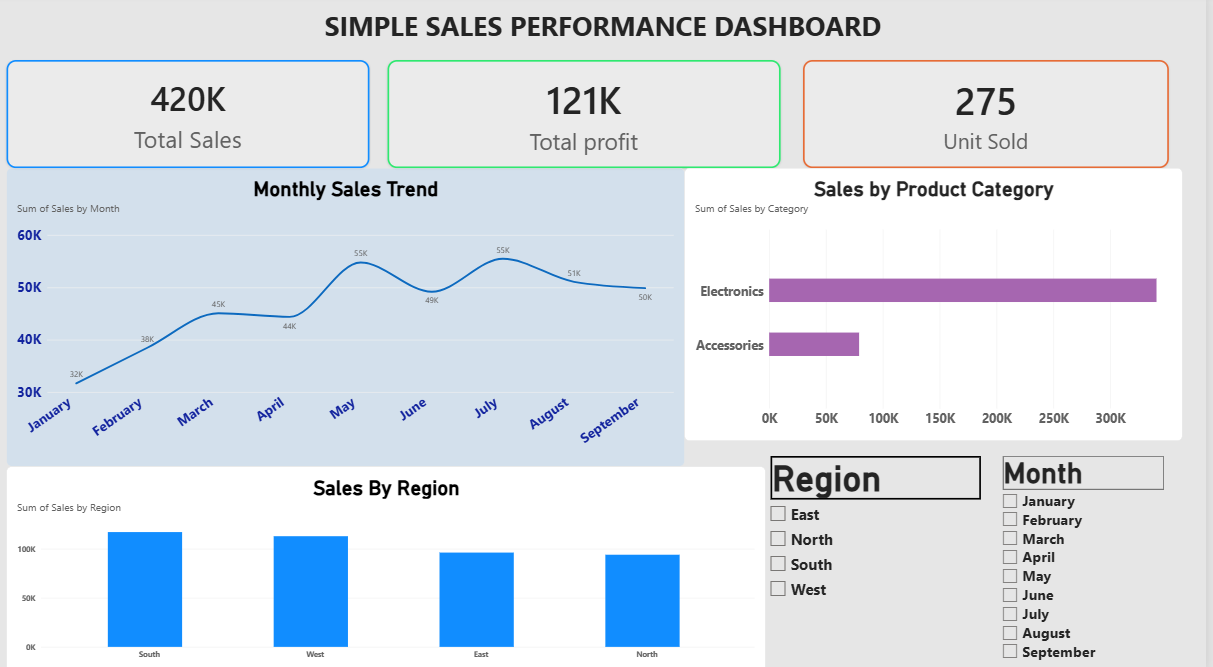

Layout of this report page (visuals, bound fields, positions):
{"tool":"powerbi","page":{"name":"Page 1","canvas":[1920,1080],"ordinal":0},"visuals":[{"type":"card","fields":{"Values":["Sum(Sales_Data.Sales)"]},"box":[11.9,105,577.4,171.8],"z":0},{"type":"card","fields":{"Values":["Sum(Sales_Data.Profit)"]},"box":[618,105,625.1,171.8],"z":1000},{"type":"card","fields":{"Values":["Sum(Sales_Data.Quantity)"]},"box":[1278.9,105,582.2,171.8],"z":2000},{"type":"lineChart","title":"Monthly Sales Trend","fields":{"Category":["Sales_Data.Month"],"Y":["Sum(Sales_Data.Sales)"]},"box":[11.9,276.8,1078.4,474.8],"z":3000},{"type":"clusteredBarChart","title":"Sales by Product Category","fields":{"Category":["Sales_Data.Category"],"Y":["Sum(Sales_Data.Sales)"]},"box":[1090.4,276.8,792.1,434.2],"z":4000},{"type":"clusteredColumnChart","title":"Sales By  Region","fields":{"Category":["Sales_Data.Region"],"Y":["Sum(Sales_Data.Sales)"]},"box":[11.9,751.6,1207.3,329.3],"z":5000},{"type":"slicer","fields":{"Values":["Sales_Data.Region"]},"box":[1219.2,734.9,350.7,329.3],"z":6000},{"type":"textbox","box":[0,21.5,1920.7,83.5],"z":8001},{"type":"slicer","fields":{"Values":["Sales_Data.Month"]},"box":[1589,734.9,272,329.3],"z":8002}]}

Visuals, with their boxes in screenshot pixels (x1, y1, x2, y2), scaled from the page's 1920x1080 canvas onto the 1213x667 screenshot:
card - Sum(Sales_Data.Sales): crop(8, 65, 372, 171)
card - Sum(Sales_Data.Profit): crop(390, 65, 785, 171)
card - Sum(Sales_Data.Quantity): crop(808, 65, 1176, 171)
"Monthly Sales Trend" lineChart: crop(8, 171, 689, 464)
"Sales by Product Category" clusteredBarChart: crop(689, 171, 1189, 439)
"Sales By  Region" clusteredColumnChart: crop(8, 464, 770, 666)
slicer - Sales_Data.Region: crop(770, 454, 992, 657)
textbox: crop(0, 13, 1212, 65)
slicer - Sales_Data.Month: crop(1004, 454, 1176, 657)
